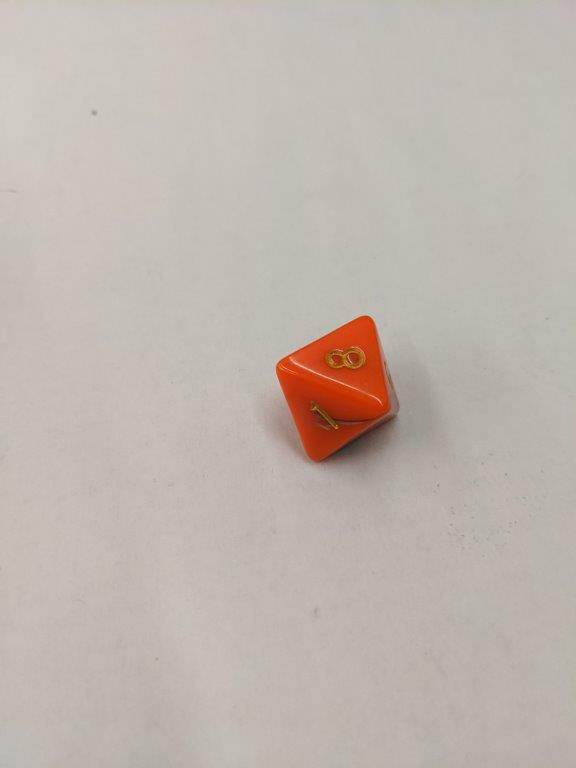d8-8: (275, 315, 403, 467)
